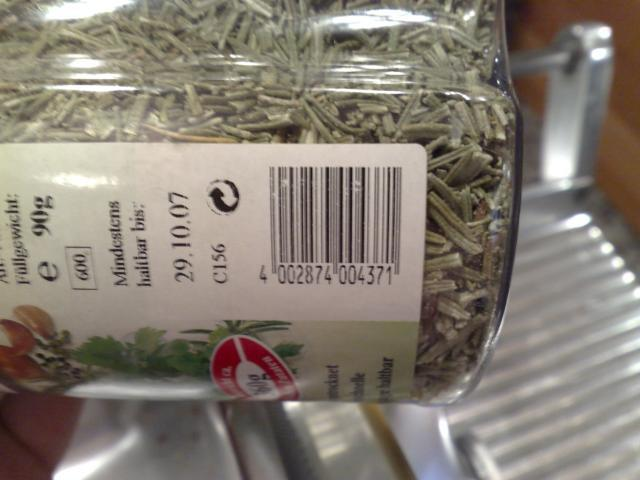Barcode: (246, 154, 421, 297)
